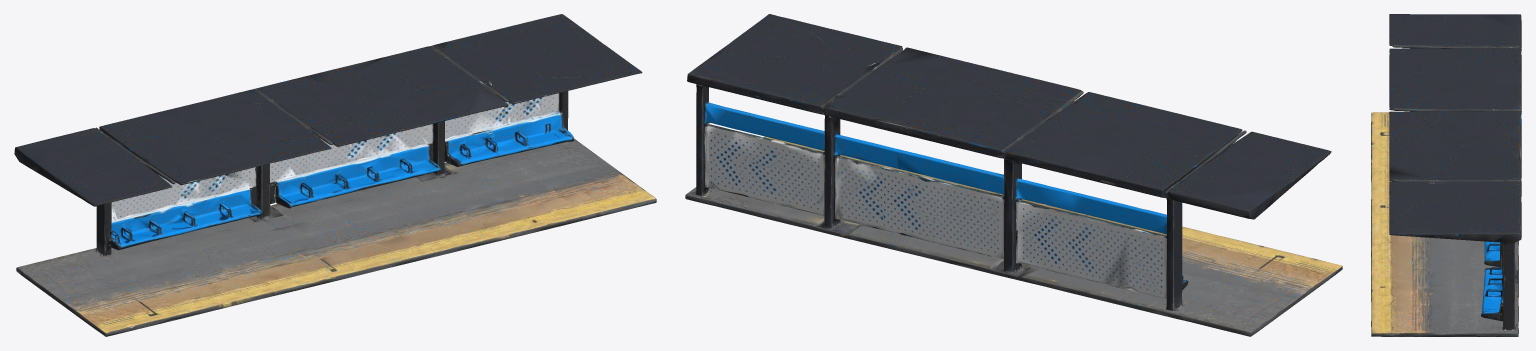
File: Plataforma-Anden-ARG-2-opt.glb
3 renders of one model, left to right at view 1: azimuth 30°, elevation 25°; view 2: azimuth 150°, elevation 25°; view 3: azimuth 270°, elevation 25°, orthographic. The views are drawn at different scales.
Size of the model in its own units: 1.9 by 0.4159 by 0.5476.
1 material, 1 textured.
